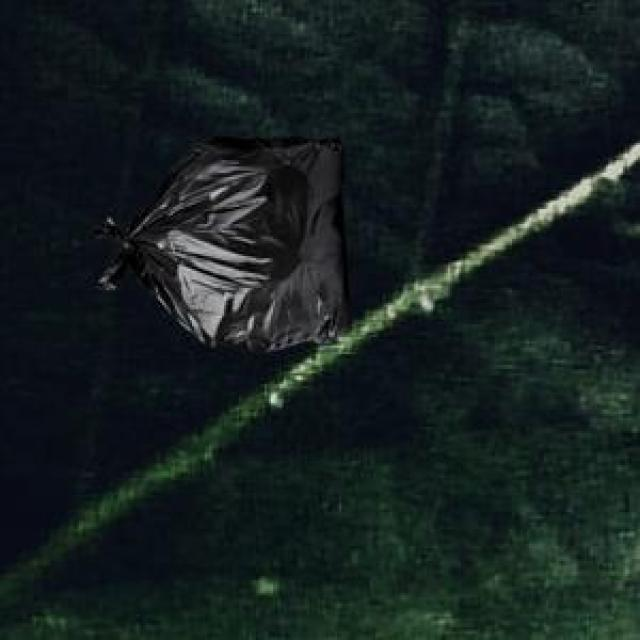waste: (105, 138, 344, 351)
